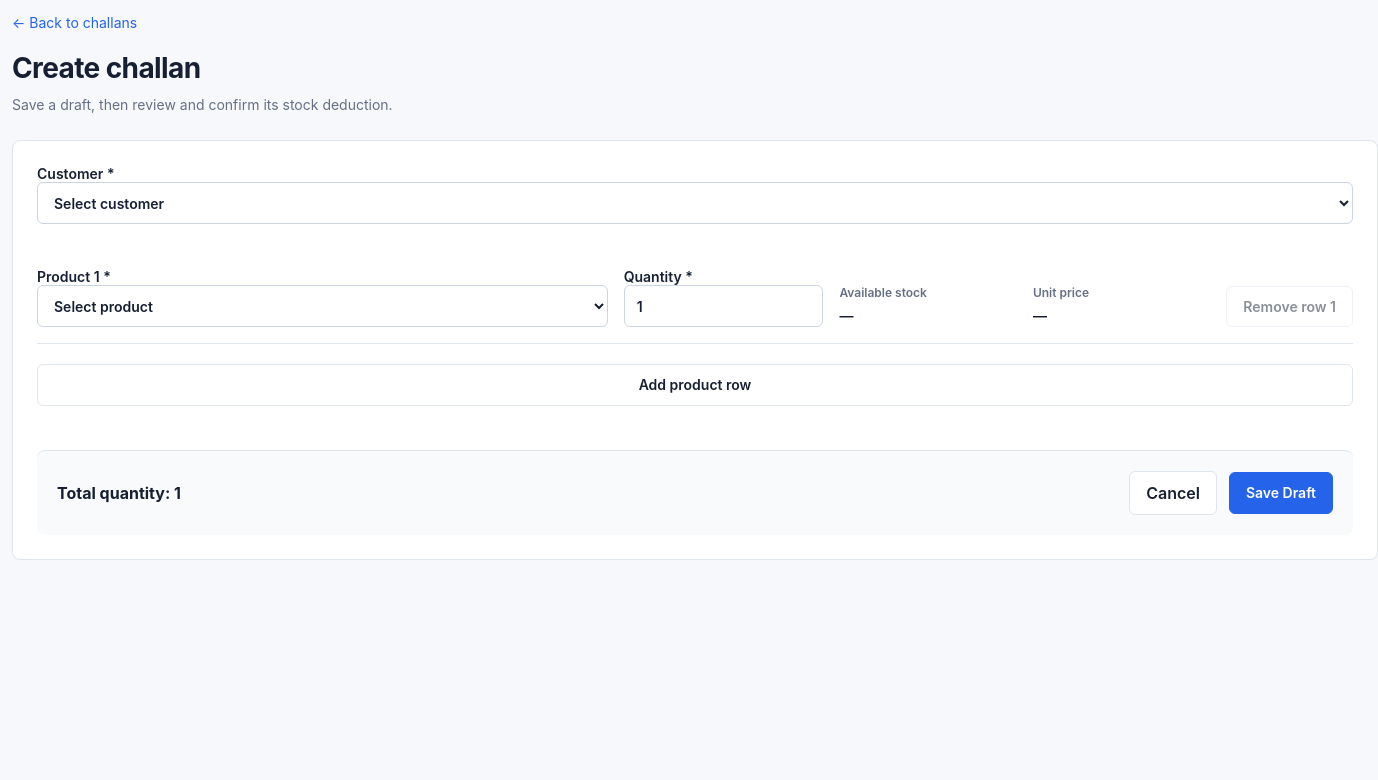
Scenario: adds and removes rows and retains form values on server rejection
Step 1. Select "Customer — Business" in the dropdown labelled "Customer *" → coordinates (695, 203), box [37,182,1353,224]
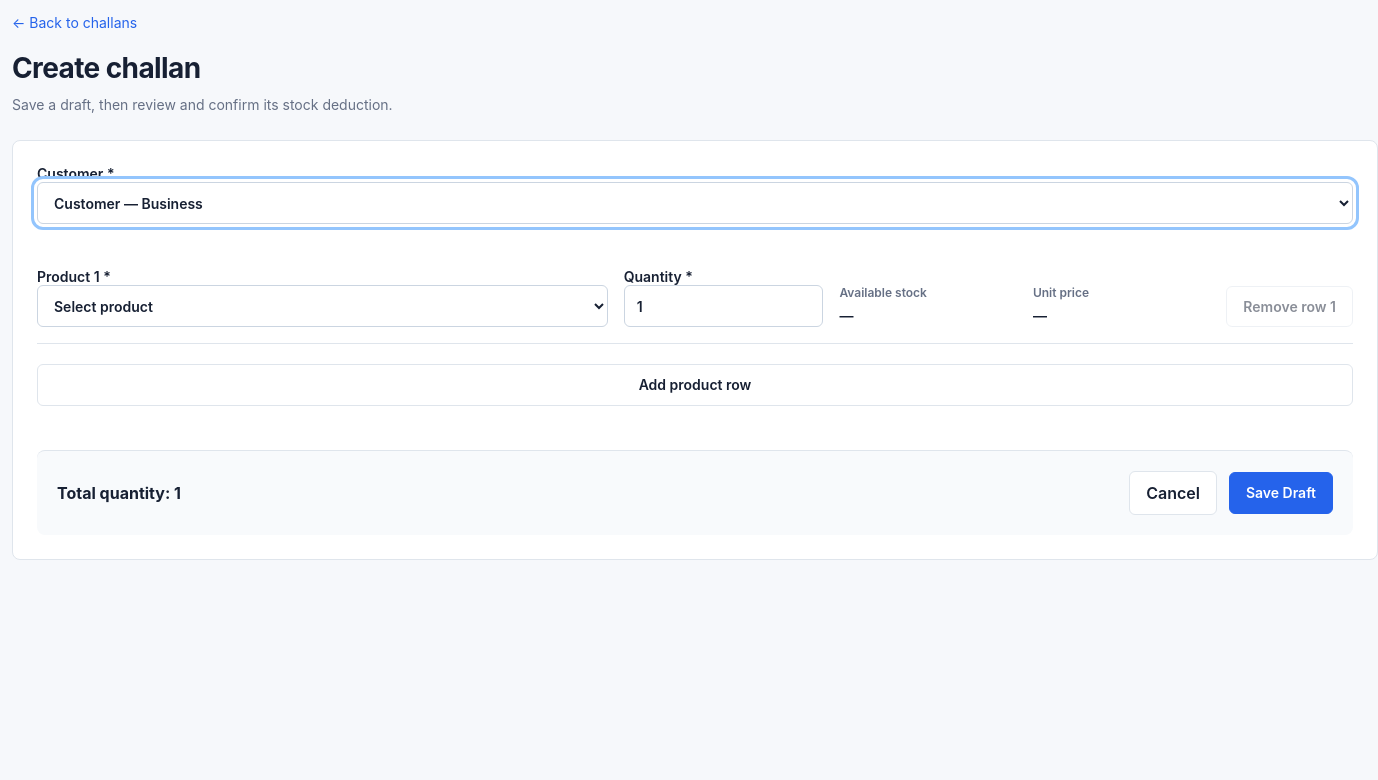
Step 2. Select "Widget — SKU" in the dropdown labelled "Product 1 *" → coordinates (322, 306), box [37,285,608,327]
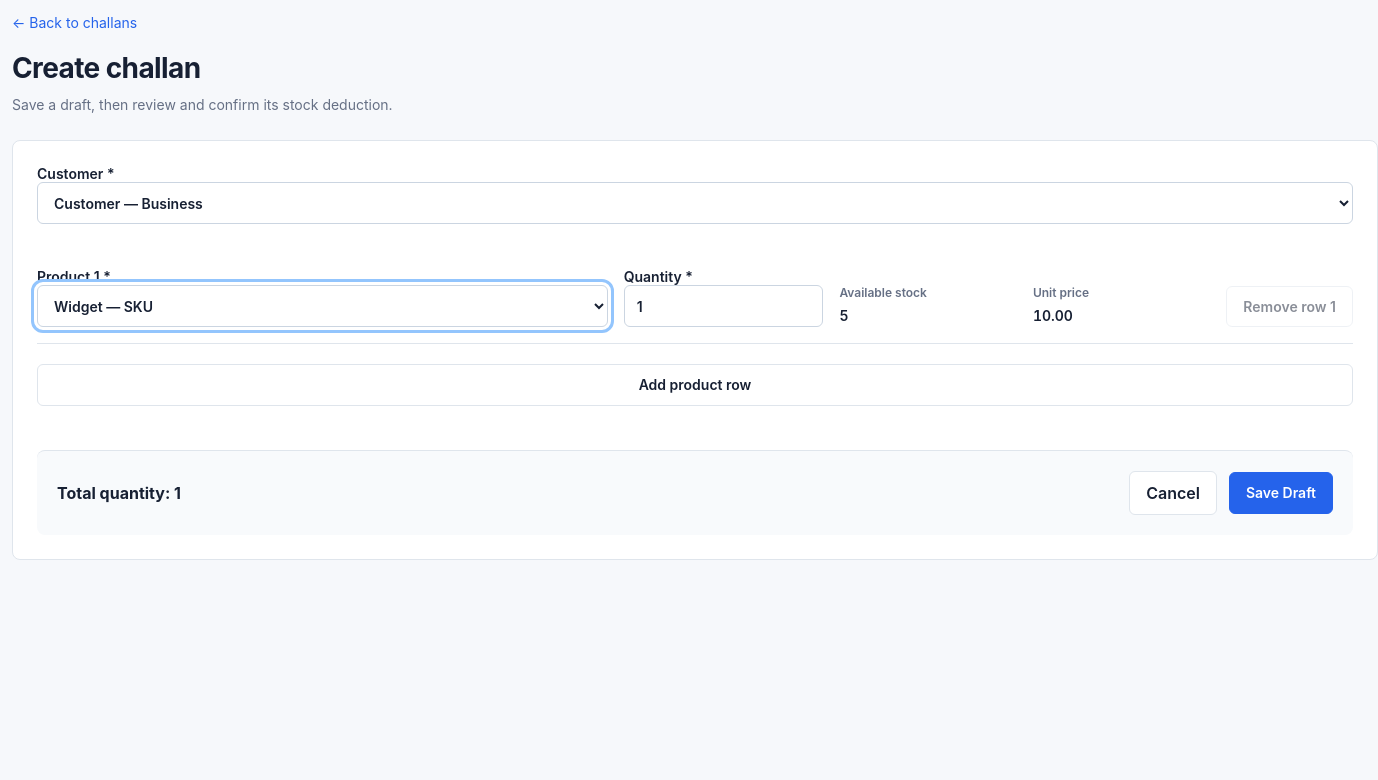
Step 3. Click the button "Add product row" → coordinates (695, 385), box [37,364,1353,406]
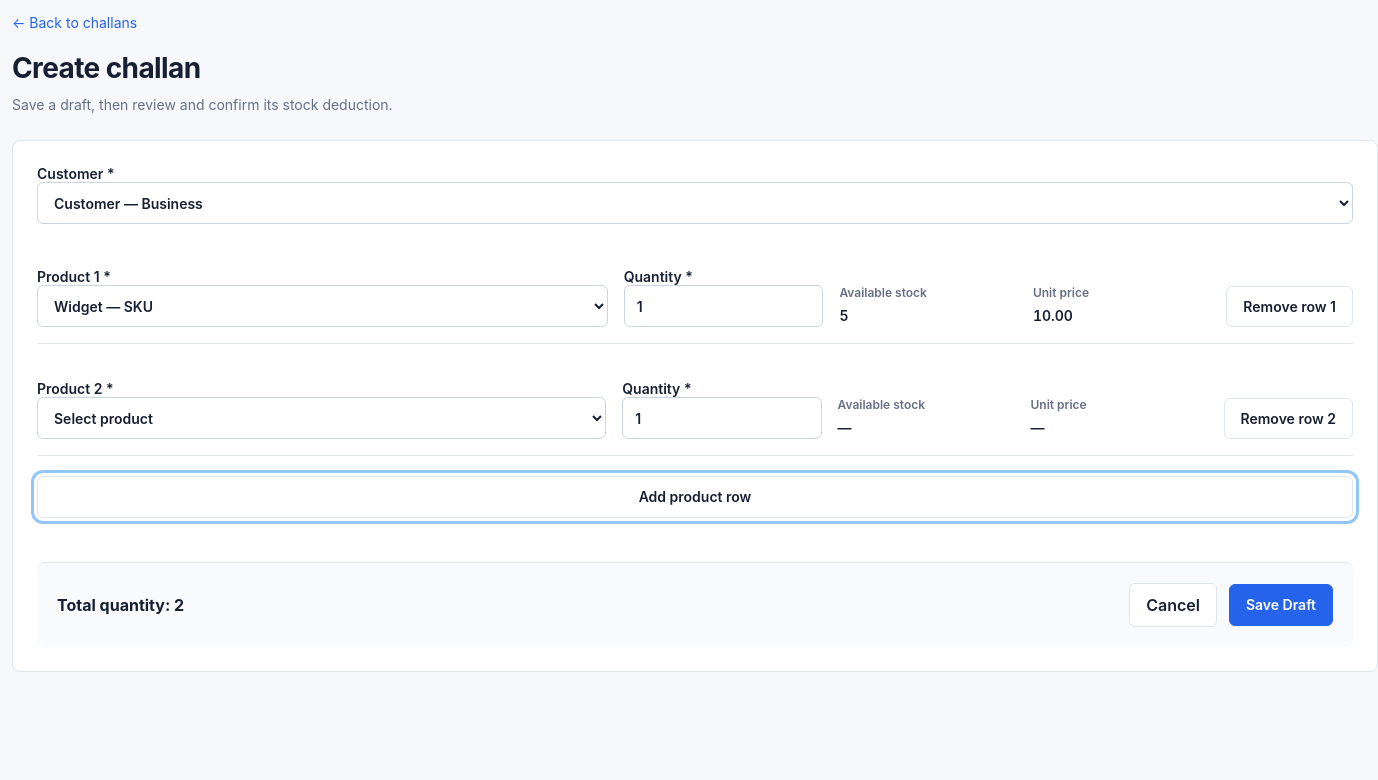
Expected: the dropdown labelled "Product 2 *" is shown, [37,397,606,439]
Step 4. Click the button "Remove row 2" → coordinates (1288, 419), box [1224,398,1353,439]
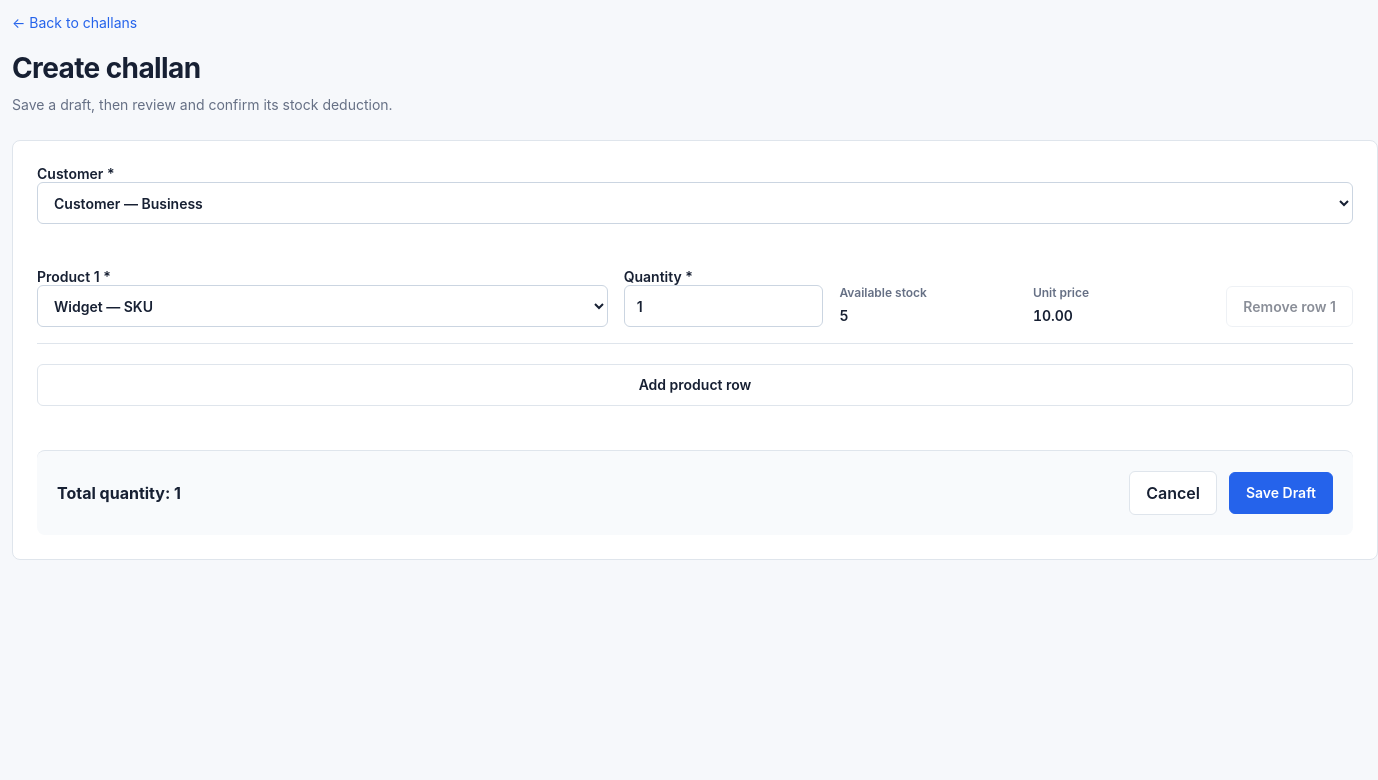
Step 5. Click the button "Save Draft" → coordinates (1281, 493), box [1229,472,1333,514]
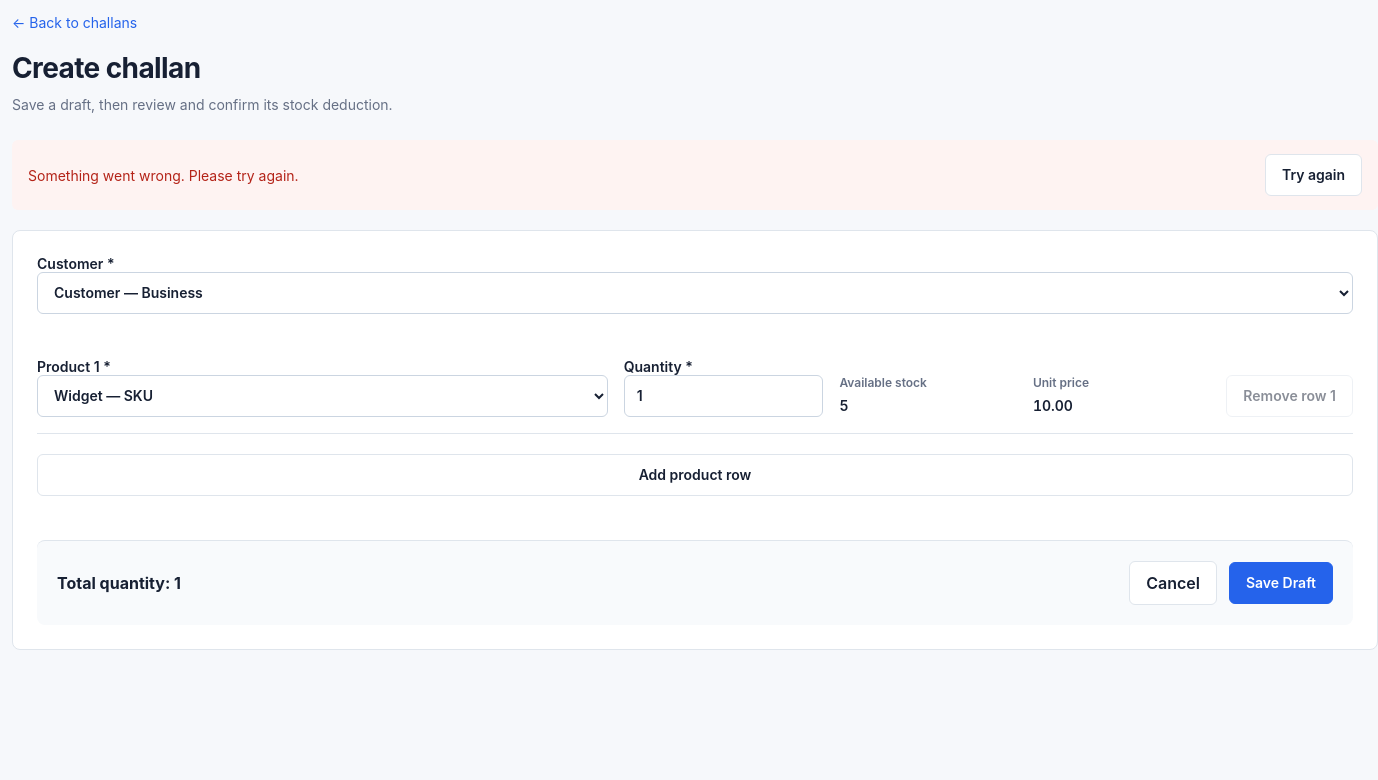
Expected: the message "Something went wrong. Please try again. Try again" is shown, [12,140,1377,210]
